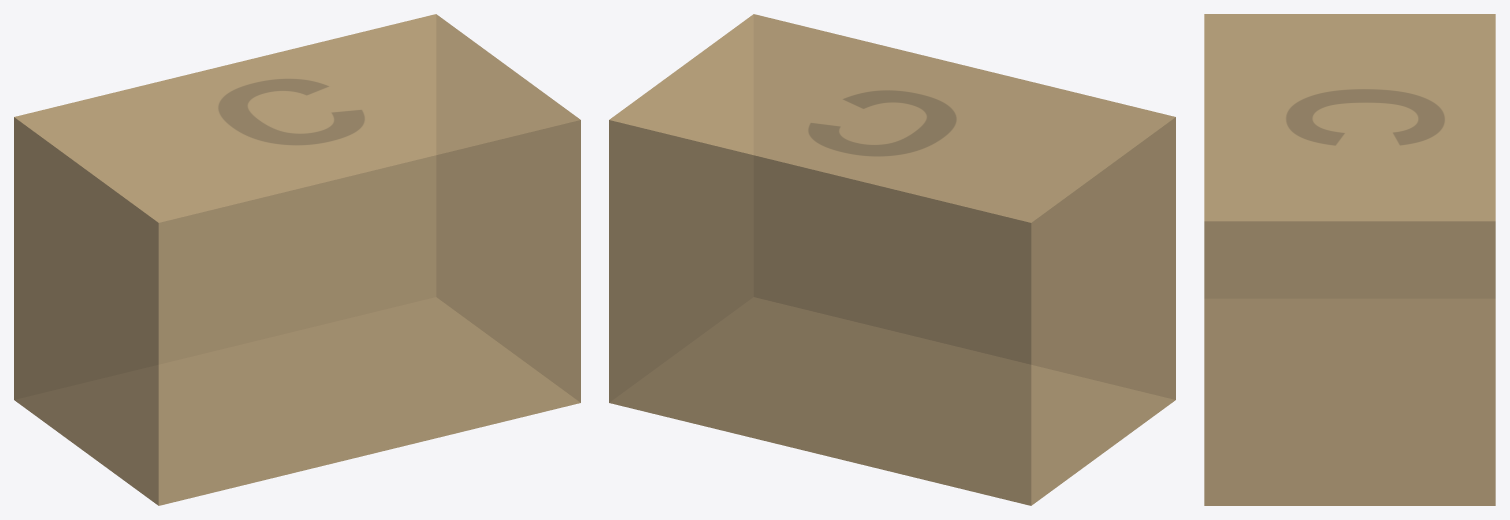
The model's file is gabaryt-c.glb.
The picture shows the model from 3 angles, left to right: view 1: azimuth 30°, elevation 25°; view 2: azimuth 150°, elevation 25°; view 3: azimuth 270°, elevation 25°; orthographic projection.
Visible parts, largest first — view 1: gabaryt-c; view 2: gabaryt-c; view 3: gabaryt-c.
Part boxes in pixels (x1,y1,x2,y2): gabaryt-c: [14, 14, 580, 505]; gabaryt-c: [609, 14, 1175, 505]; gabaryt-c: [1204, 14, 1495, 505].
Bounding box in the file's own units: 0.64 × 0.41 × 0.38.
Materials: 1 (1 with a texture image).
